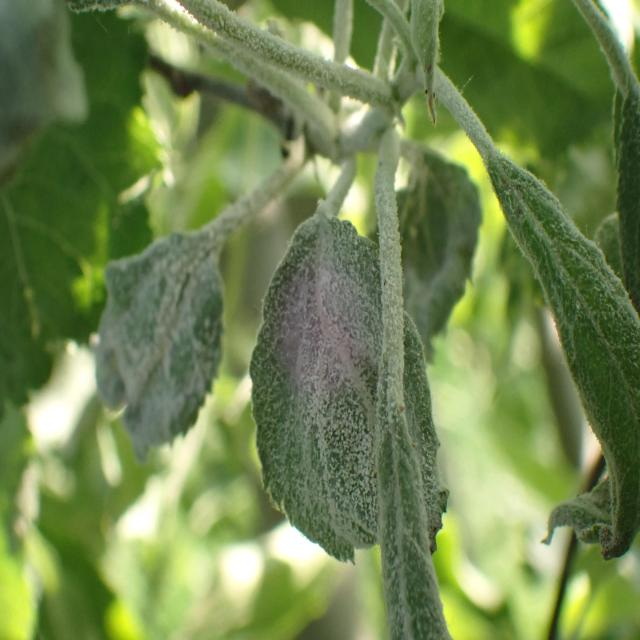Powdery_mildew: (256, 194, 449, 555), (487, 138, 640, 580), (370, 140, 459, 640), (96, 203, 232, 465), (581, 73, 640, 336)
